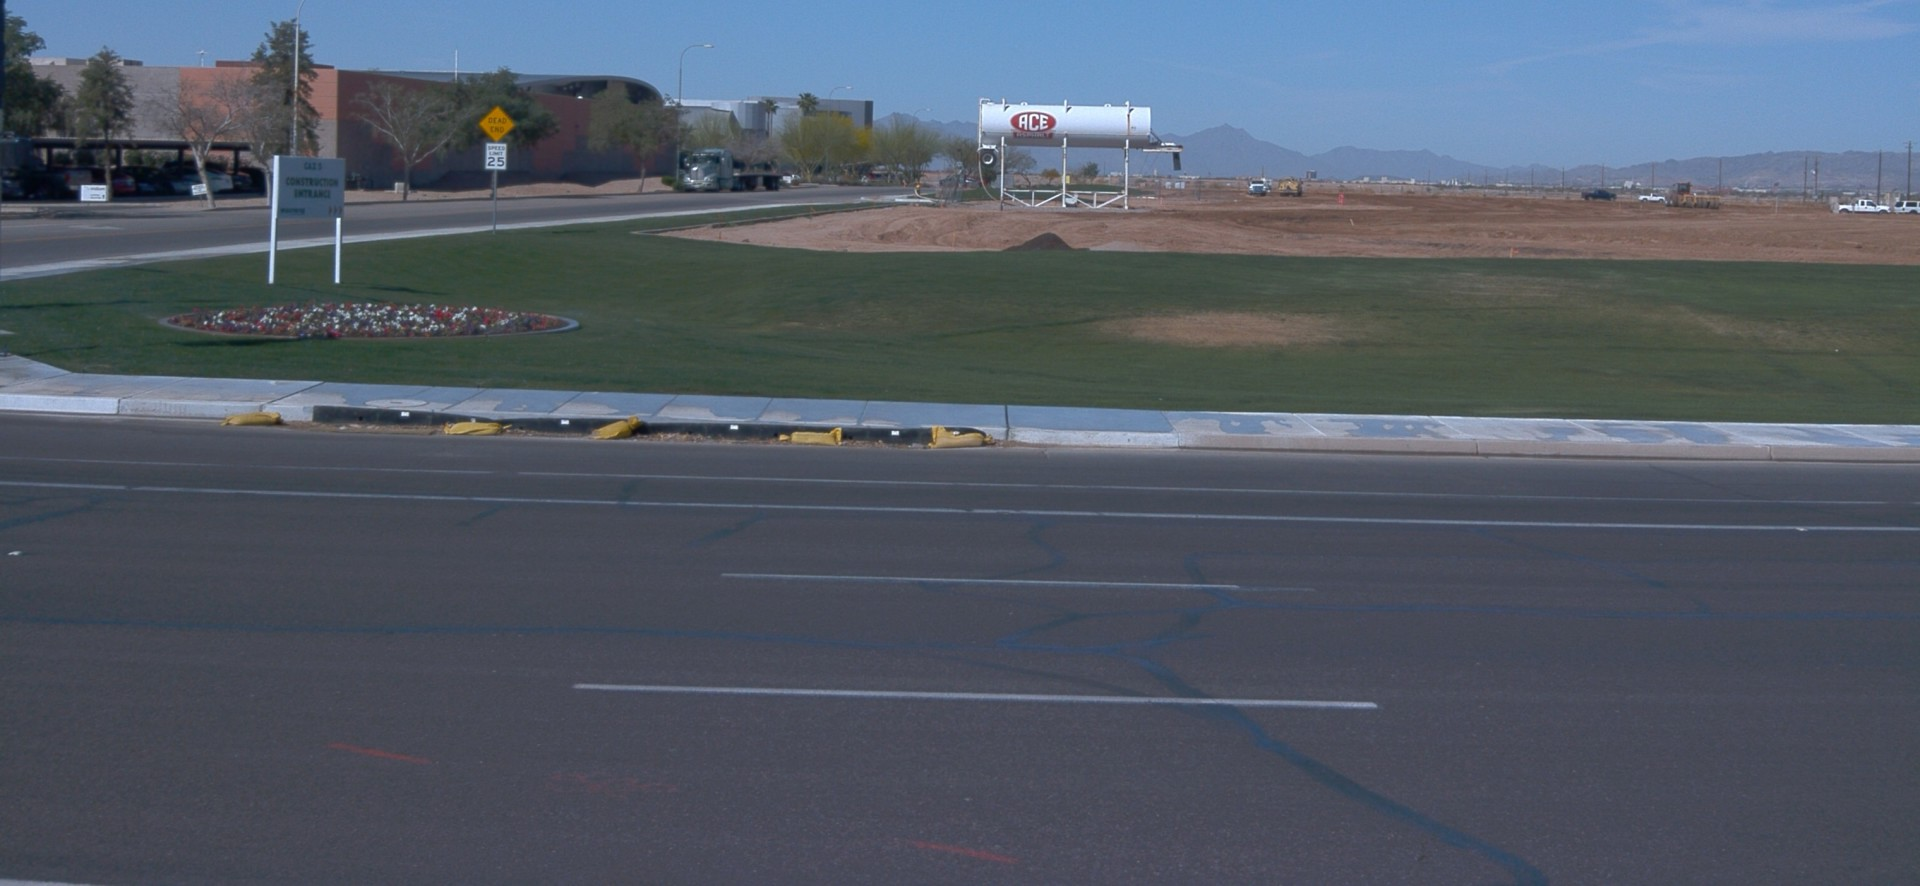TYPE_VEHICLE: (681, 146, 786, 197), (14, 154, 90, 199), (160, 158, 251, 195), (126, 164, 194, 198), (1663, 181, 1725, 208), (88, 167, 135, 198), (164, 169, 232, 190), (1838, 199, 1892, 214), (238, 170, 273, 191), (1278, 175, 1305, 196), (1582, 190, 1617, 204), (0, 177, 21, 200), (1893, 200, 1920, 215), (1245, 179, 1268, 196), (1636, 192, 1666, 202), (790, 176, 799, 180), (1692, 193, 1696, 196)
